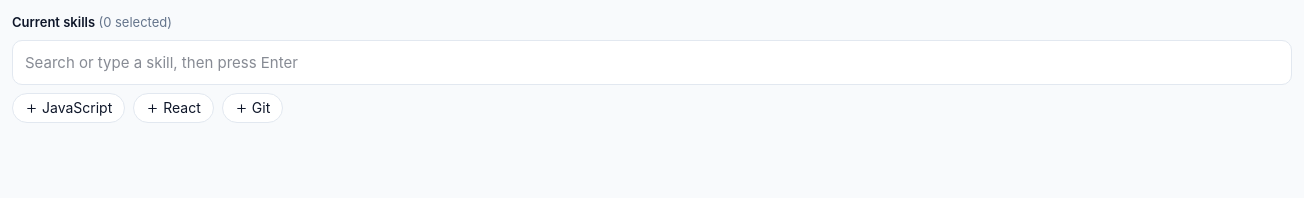
Scenario: SkillPicker › adds catalogue skills, custom skills and removes them
The width and height of the screenshot is (1304, 198).
Click the button "React": (174, 108) [133,93,214,123]
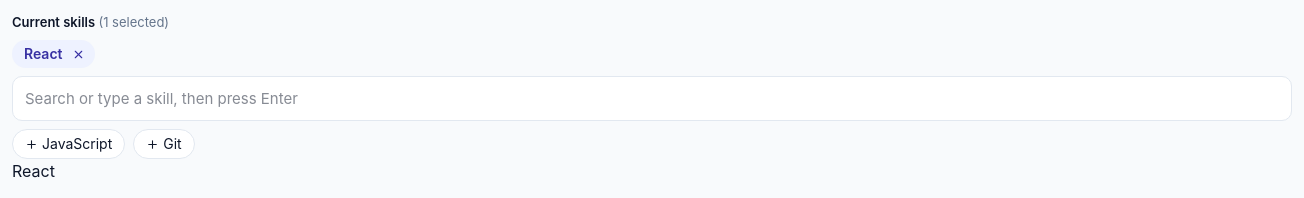
In the field: (652, 99) [12,76,1292,121], type "Rust"
Then press Enter
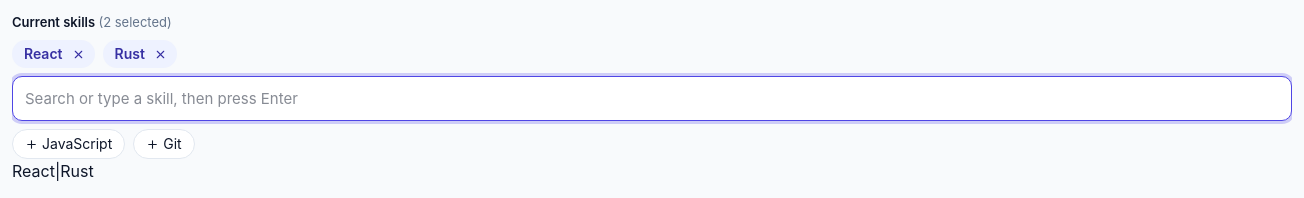
Expected: the text with test id "out" reads "React|Rust", [12,161,94,181]
Click the button named "Remove React": (78, 54) [68,44,88,64]
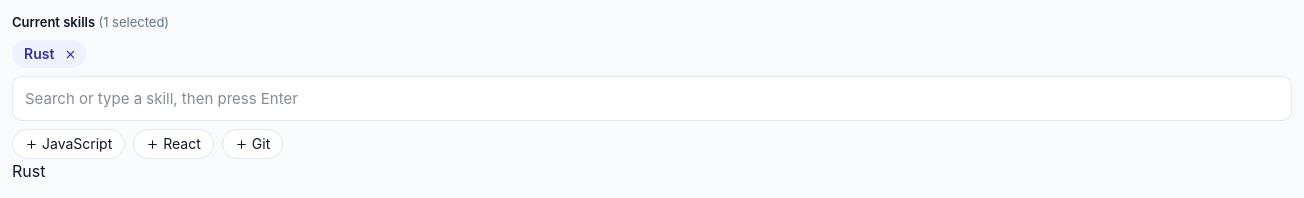
Expected: the text with test id "out" reads "Rust", [12,161,45,181]
